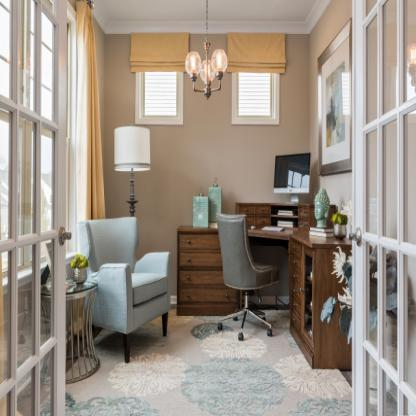chair: (80, 210, 179, 364), (217, 200, 285, 344)
door: (0, 3, 75, 416), (352, 0, 416, 416)
light: (184, 0, 232, 105), (110, 122, 154, 216)
table: (178, 212, 361, 373), (38, 267, 98, 390)
